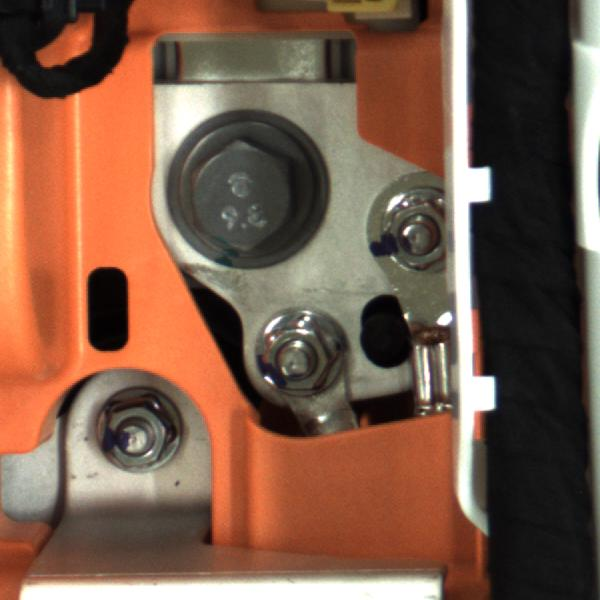nut_b: (157, 116, 330, 269)
screw_s: (78, 389, 197, 475), (249, 298, 348, 396), (370, 185, 450, 276)
